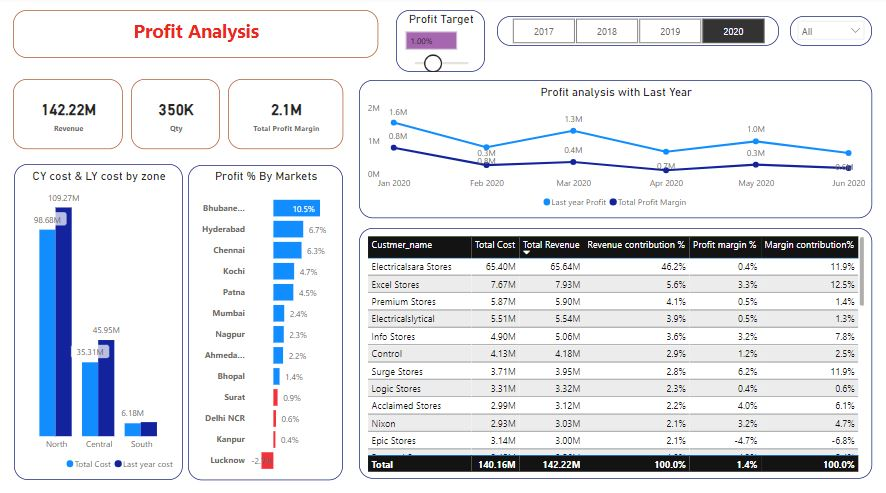

The dashboard page shown, as its layout file describes it:
{"tool":"powerbi","page":{"name":"Profit analysis","canvas":[1280,720],"ordinal":1},"visuals":[{"type":"slicer","fields":{"Values":["sales date.year"]},"box":[720,27.4,406.1,43.2],"z":0},{"type":"tableEx","fields":{"Values":["sales customers.custmer_name","sales transactions.Total Cost","sales customers.Revenu","sales transactions.p contribution share","sales transactions.profit margin % by zone","sales transactions.profir margin contribution%"]},"box":[521.3,332.6,738.7,361.4],"z":1000},{"type":"slicer","fields":{"Values":["sales date.month_name"]},"box":[1141.9,27.4,118.1,43.2],"z":2000},{"type":"lineChart","title":"Profit analysis with Last Year","fields":{"Category":["sales date.cy_date.Variation.Date Hierarchy.Year","sales date.cy_date.Variation.Date Hierarchy.Quarter","sales date.cy_date.Variation.Date Hierarchy.Month","sales date.cy_date.Variation.Date Hierarchy.Day"],"Y":["sales customers.Last year Profit","sales transactions.Total Profit margin"]},"box":[521.3,119.5,738.7,198.7],"z":3000},{"type":"card","fields":{"Values":["sales customers.Ravenu"]},"box":[23,118.1,158.4,100.8],"z":4000},{"type":"card","fields":{"Values":["sales customers.Qty"]},"box":[193,118.1,128.2,100.8],"z":5000},{"type":"card","fields":{"Values":["sales transactions.total Profit margin"]},"box":[332.6,118.1,165.6,100.8],"z":6000},{"type":"lineClusteredColumnComboChart","title":"CY cost & LY cost by zone","fields":{"Category":["sales markets.zone"],"Y":["sales transactions.Total Cost","sales customers.Last year cost"]},"box":[24.5,240.5,243.4,455],"z":7000},{"type":"textbox","box":[23,18.7,525.6,69.1],"z":8000},{"type":"barChart","title":"Profit % By Markets","fields":{"Y":["sales transactions.profit margin %"],"Category":["sales markets.markets_name"]},"box":[275,241.9,223.2,453.6],"z":9000},{"type":"slicer","title":"Profit Target","fields":{"Values":["Profit Target.Profit Target"]},"box":[574.6,18.7,128.2,89.3],"z":10000}]}

Visuals, with their boxes in screenshot pixels (x1, y1, x2, y2), scaled from the page's 1280x720 canvas onto the 886x493 screenshot:
slicer - sales date.year: [498,19,779,48]
tableEx - sales customers.custmer_name x sales transactions.Total Cost: [361,228,872,475]
slicer - sales date.month_name: [790,19,872,48]
"Profit analysis with Last Year" lineChart: [361,82,872,218]
card - sales customers.Ravenu: [16,81,126,150]
card - sales customers.Qty: [134,81,222,150]
card - sales transactions.total Profit margin: [230,81,345,150]
"CY cost & LY cost by zone" lineClusteredColumnComboChart: [17,165,185,476]
textbox: [16,13,380,60]
"Profit % By Markets" barChart: [190,166,345,476]
"Profit Target" slicer: [398,13,486,74]
